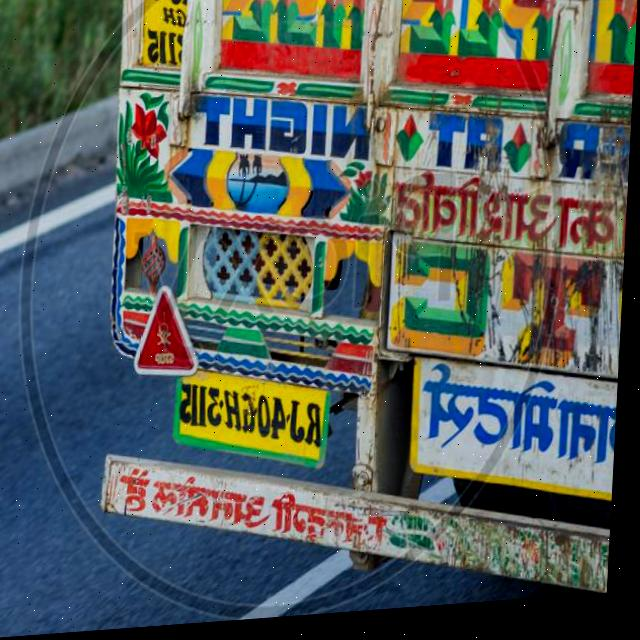plate: (175, 361, 336, 486)
